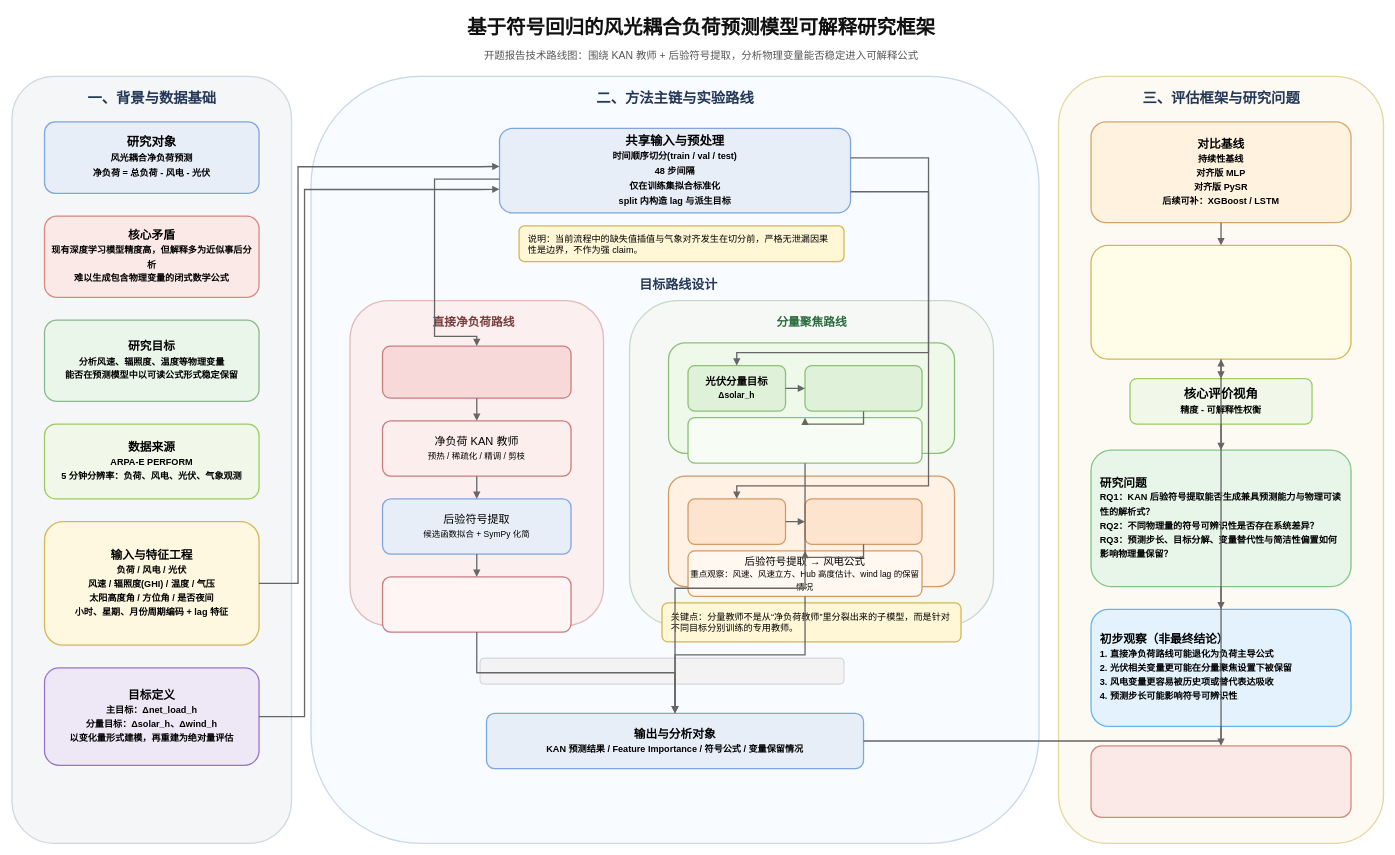
The diagram is 1395 pixels wide and 855 high, and some of its shapes have lost their labels. Here are the shapes that lost their labels. From the top down, the centre of each, then its label:
At (x=1220, y=301): "评估指标 精度：RMSE / R² / Skill 可解释性：SymPy 节点数 / 有效变量数 / 活跃边数 / 变量进入频率 / 多种子稳定性".
At (x=476, y=371): "直接净负荷目标 Target: Δnet_load_h".
At (x=863, y=388): "光伏分量 KAN 教师".
At (x=804, y=440): "后验符号提取 → 光伏公式 重点观察：辐照度、太阳几何、温度、solar lag 的保留情况".
At (x=736, y=521): "风电分量目标 Δwind_h".
At (x=863, y=521): "风电分量 KAN 教师".
At (x=476, y=604): "净负荷符号公式 初步风险：易退化为负荷主导的极简关系".
At (x=661, y=670): "方法口径：不是 teacher-student 蒸馏，而是 KAN 教师 + 后验符号提取".
At (x=1220, y=781): "边界与风险 当前流程并非严格无泄漏 KAN 与 PySR 比较仅为部分公平 关键结论仍需多随机种子复验".
